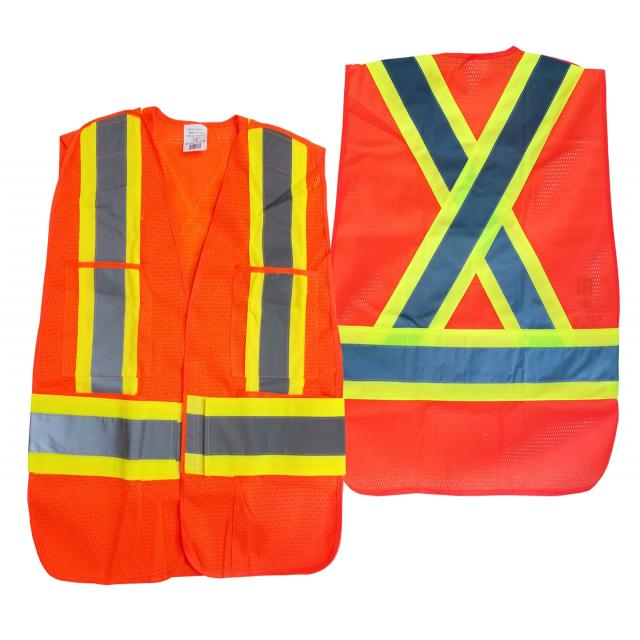Reflective-Jacket: (12, 105, 350, 600), (318, 46, 624, 503)
